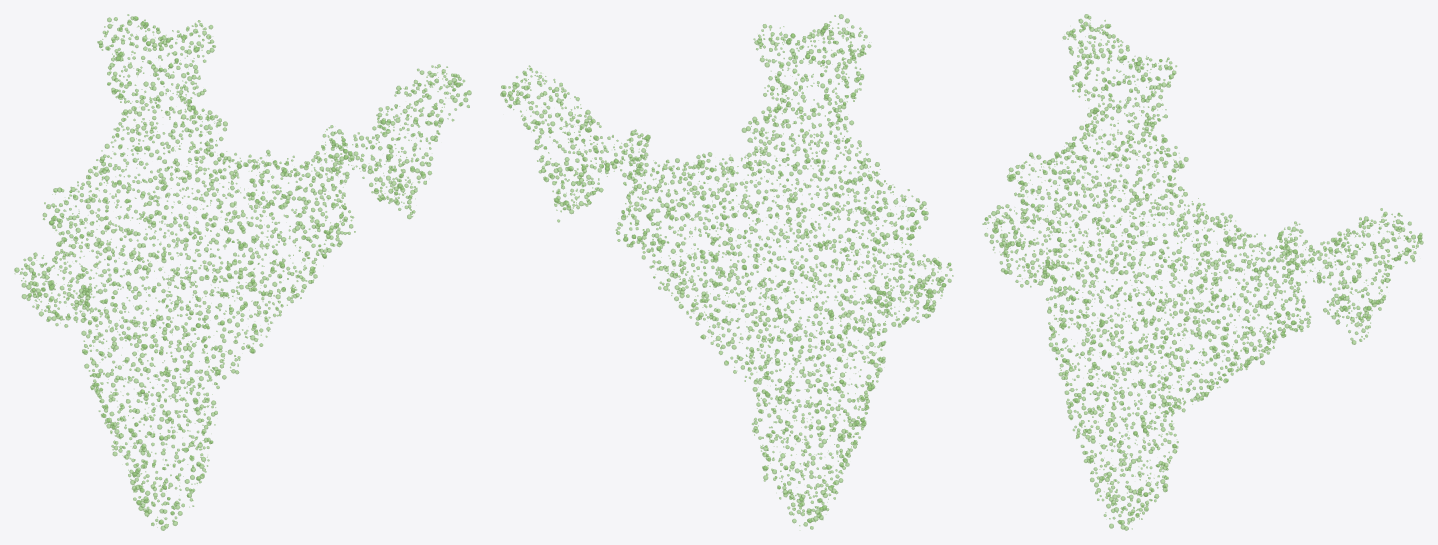
The model's file is map.glb.
3 views of the same model, side by side, from view 1: azimuth 30°, elevation 25°; view 2: azimuth 150°, elevation 25°; view 3: azimuth 330°, elevation 25° (orthographic). The views are drawn at different scales.
Parts seen in each view (by area): view 1: India_Map_India_Map1_0.001; view 2: India_Map_India_Map1_0.001; view 3: India_Map_India_Map1_0.001.
Part boxes in pixels (x1,y1,x2,y2): India_Map_India_Map1_0.001: (14,14,471,530); India_Map_India_Map1_0.001: (500,14,953,529); India_Map_India_Map1_0.001: (982,14,1423,530).
Bounding box in the file's own units: 4.74 × 5.26 × 0.3119.
